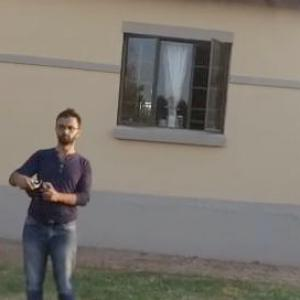follow: (7, 98, 99, 299)
